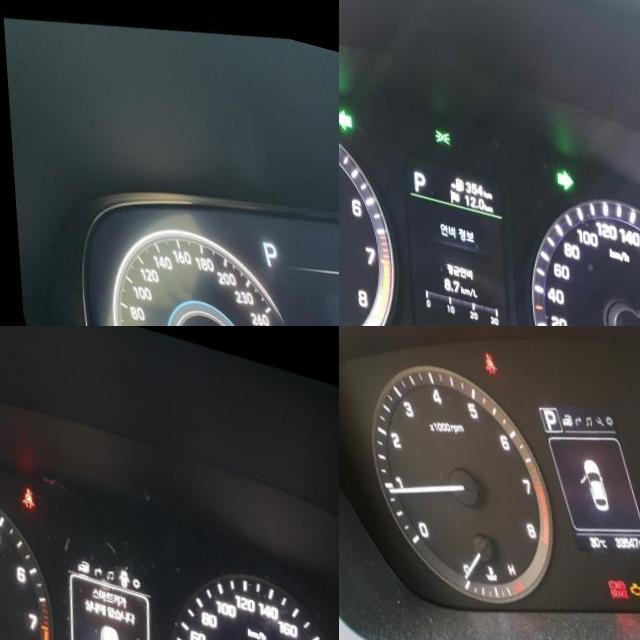SideLamp: (430, 107, 448, 125)
